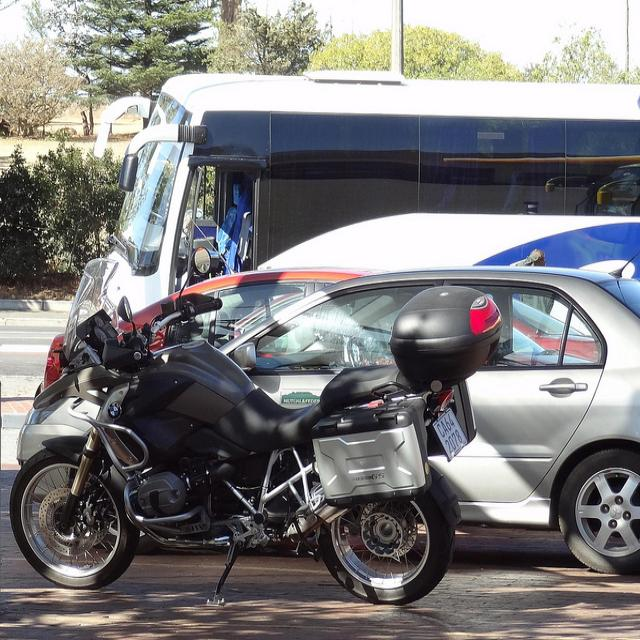motor: (9, 257, 500, 597)
